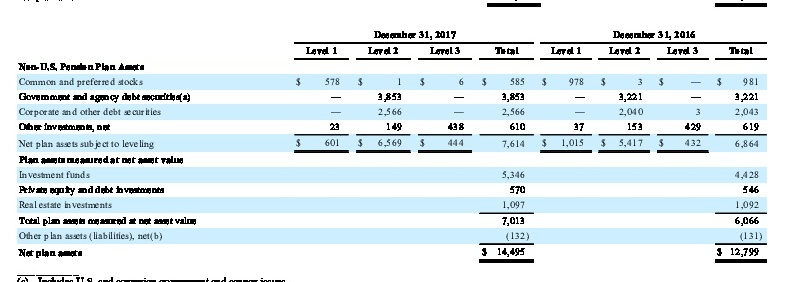table: (0, 0, 786, 282)
